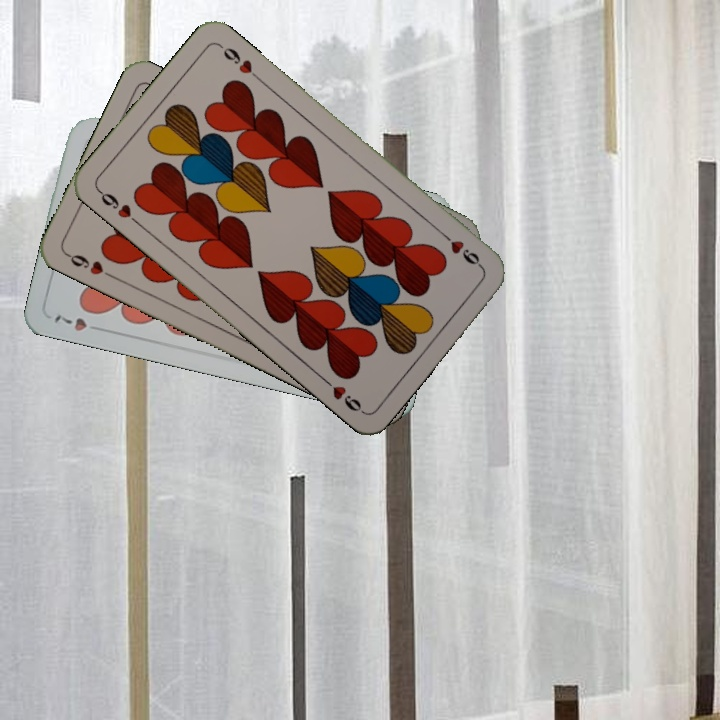H7: (50, 311, 106, 334)
H9: (437, 227, 485, 271), (94, 185, 143, 228), (62, 249, 117, 282)
